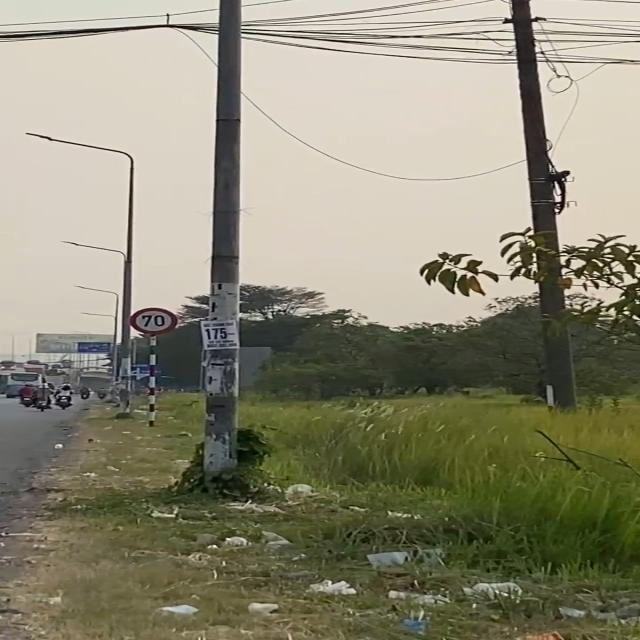127-toc-do-toi-da-70: (131, 306, 177, 334)
